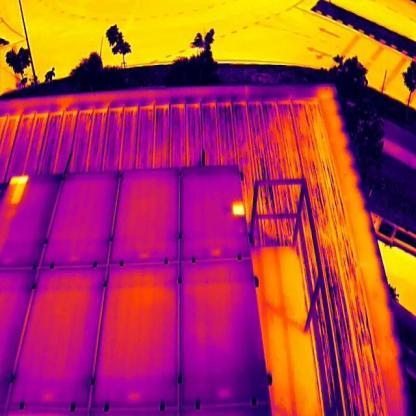anomaly: (7, 173, 29, 205), (231, 202, 248, 218)
